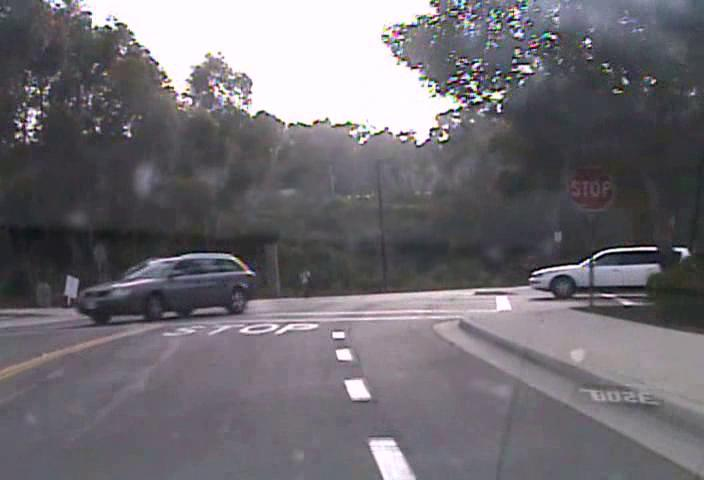stop: (566, 163, 615, 213)
